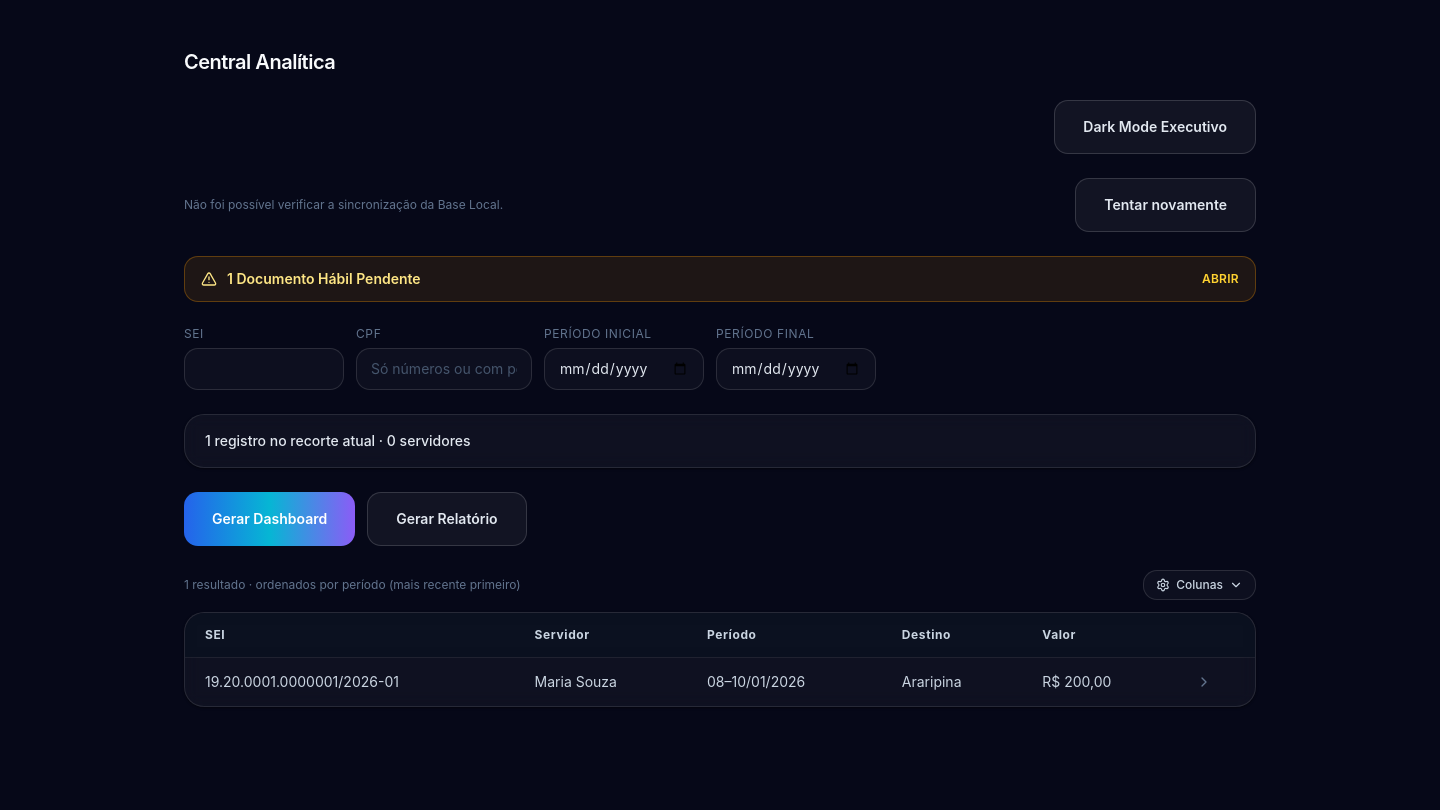
Test: CentralAnalitica › 'Ver histórico deste CPF' a partir de Documentos Hábeis Pendentes volta para os resultados
Click the button "1 Documento Hábil Pendente Abrir". click: (329, 278)
box: [184,256,1256,302]
(page scrolled)
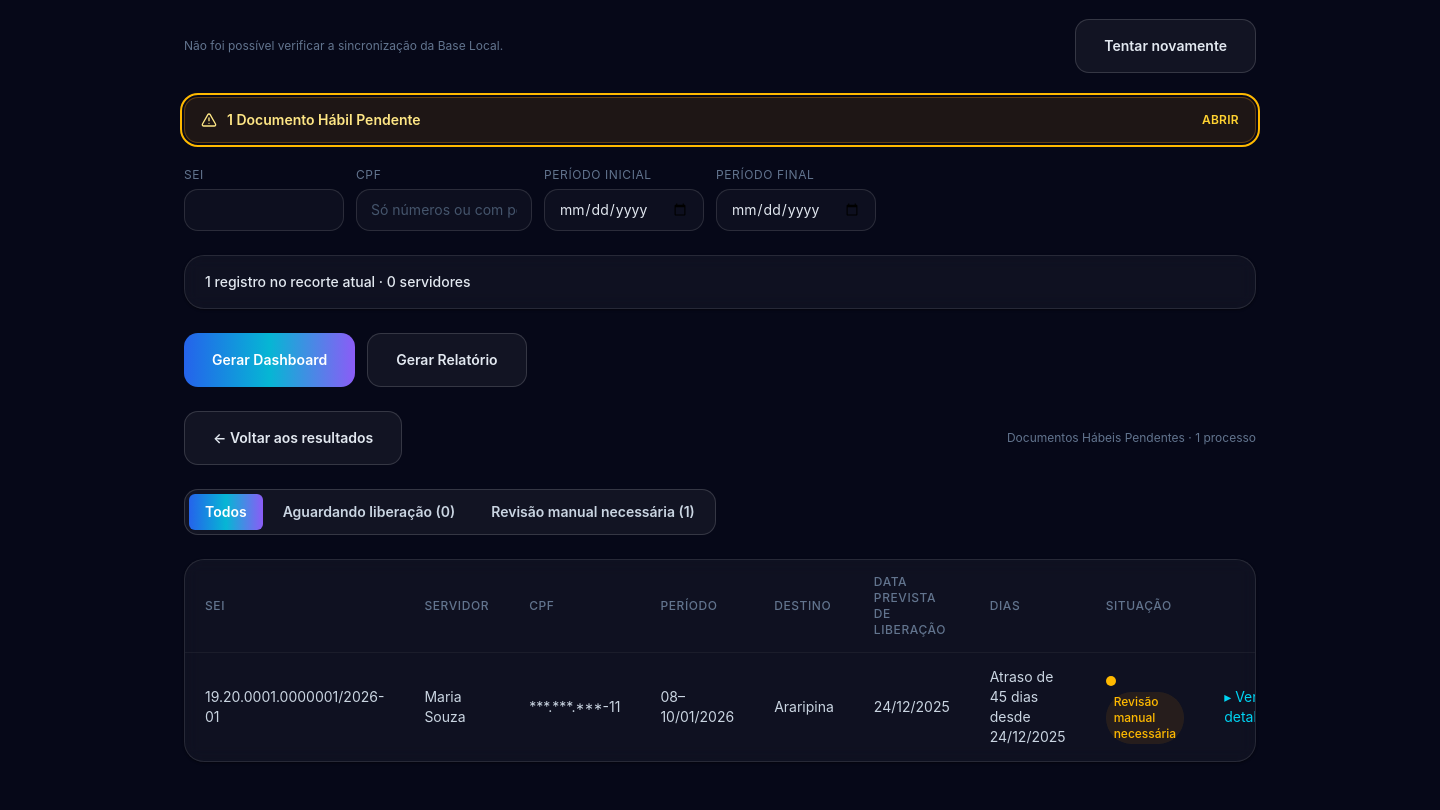
Click the row named "Ver detalhes do processo 19.20.0001.0000001/2026-01". click: (743, 707)
box: [185,652,1301,761]
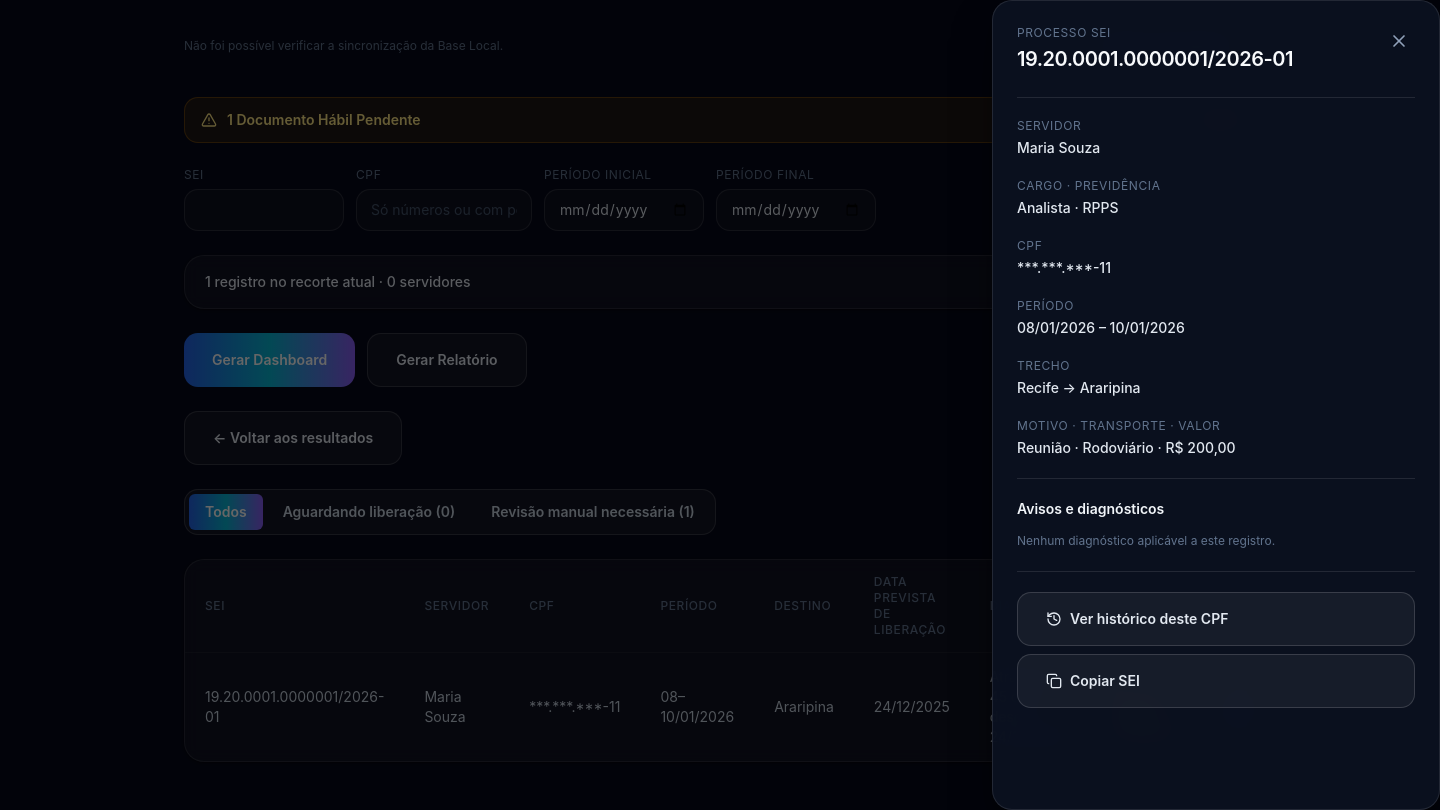
Result: the heading "19.20.0001.0000001/2026-01" is shown at [1017,45,1293,73]
Click the button "Ver histórico deste CPF". click: (1216, 618)
box: [1017,592,1415,646]
(page scrolled)
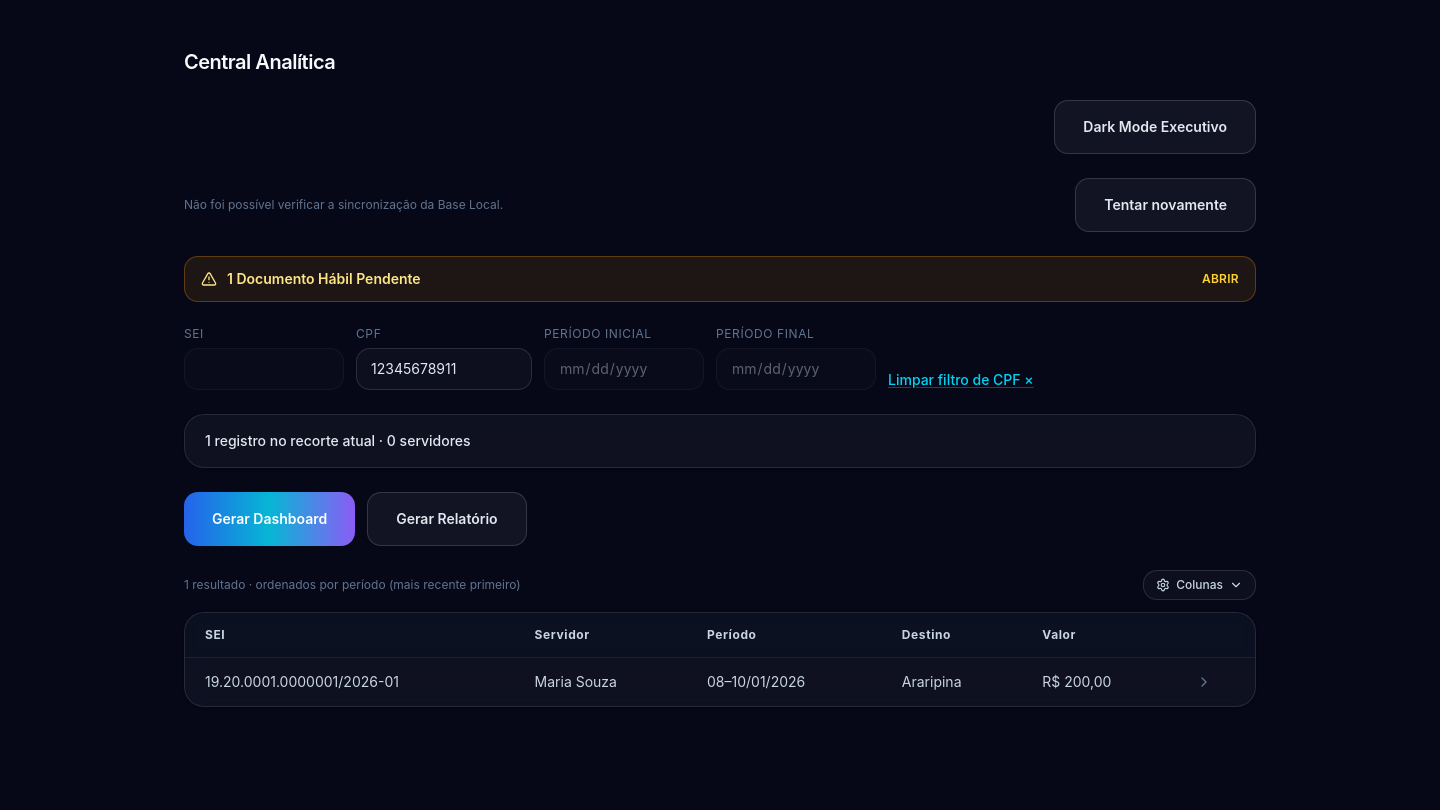
Result: the dialog is gone
